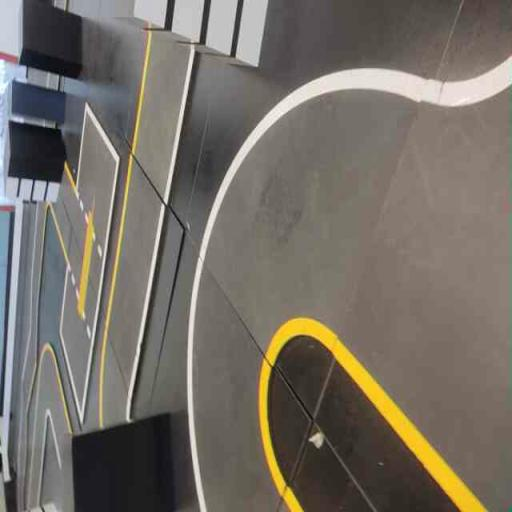left: (192, 45, 431, 423)
